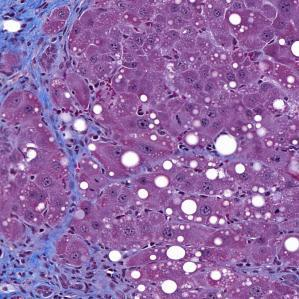fibrosis: (7, 11, 82, 115), (9, 227, 126, 291)
